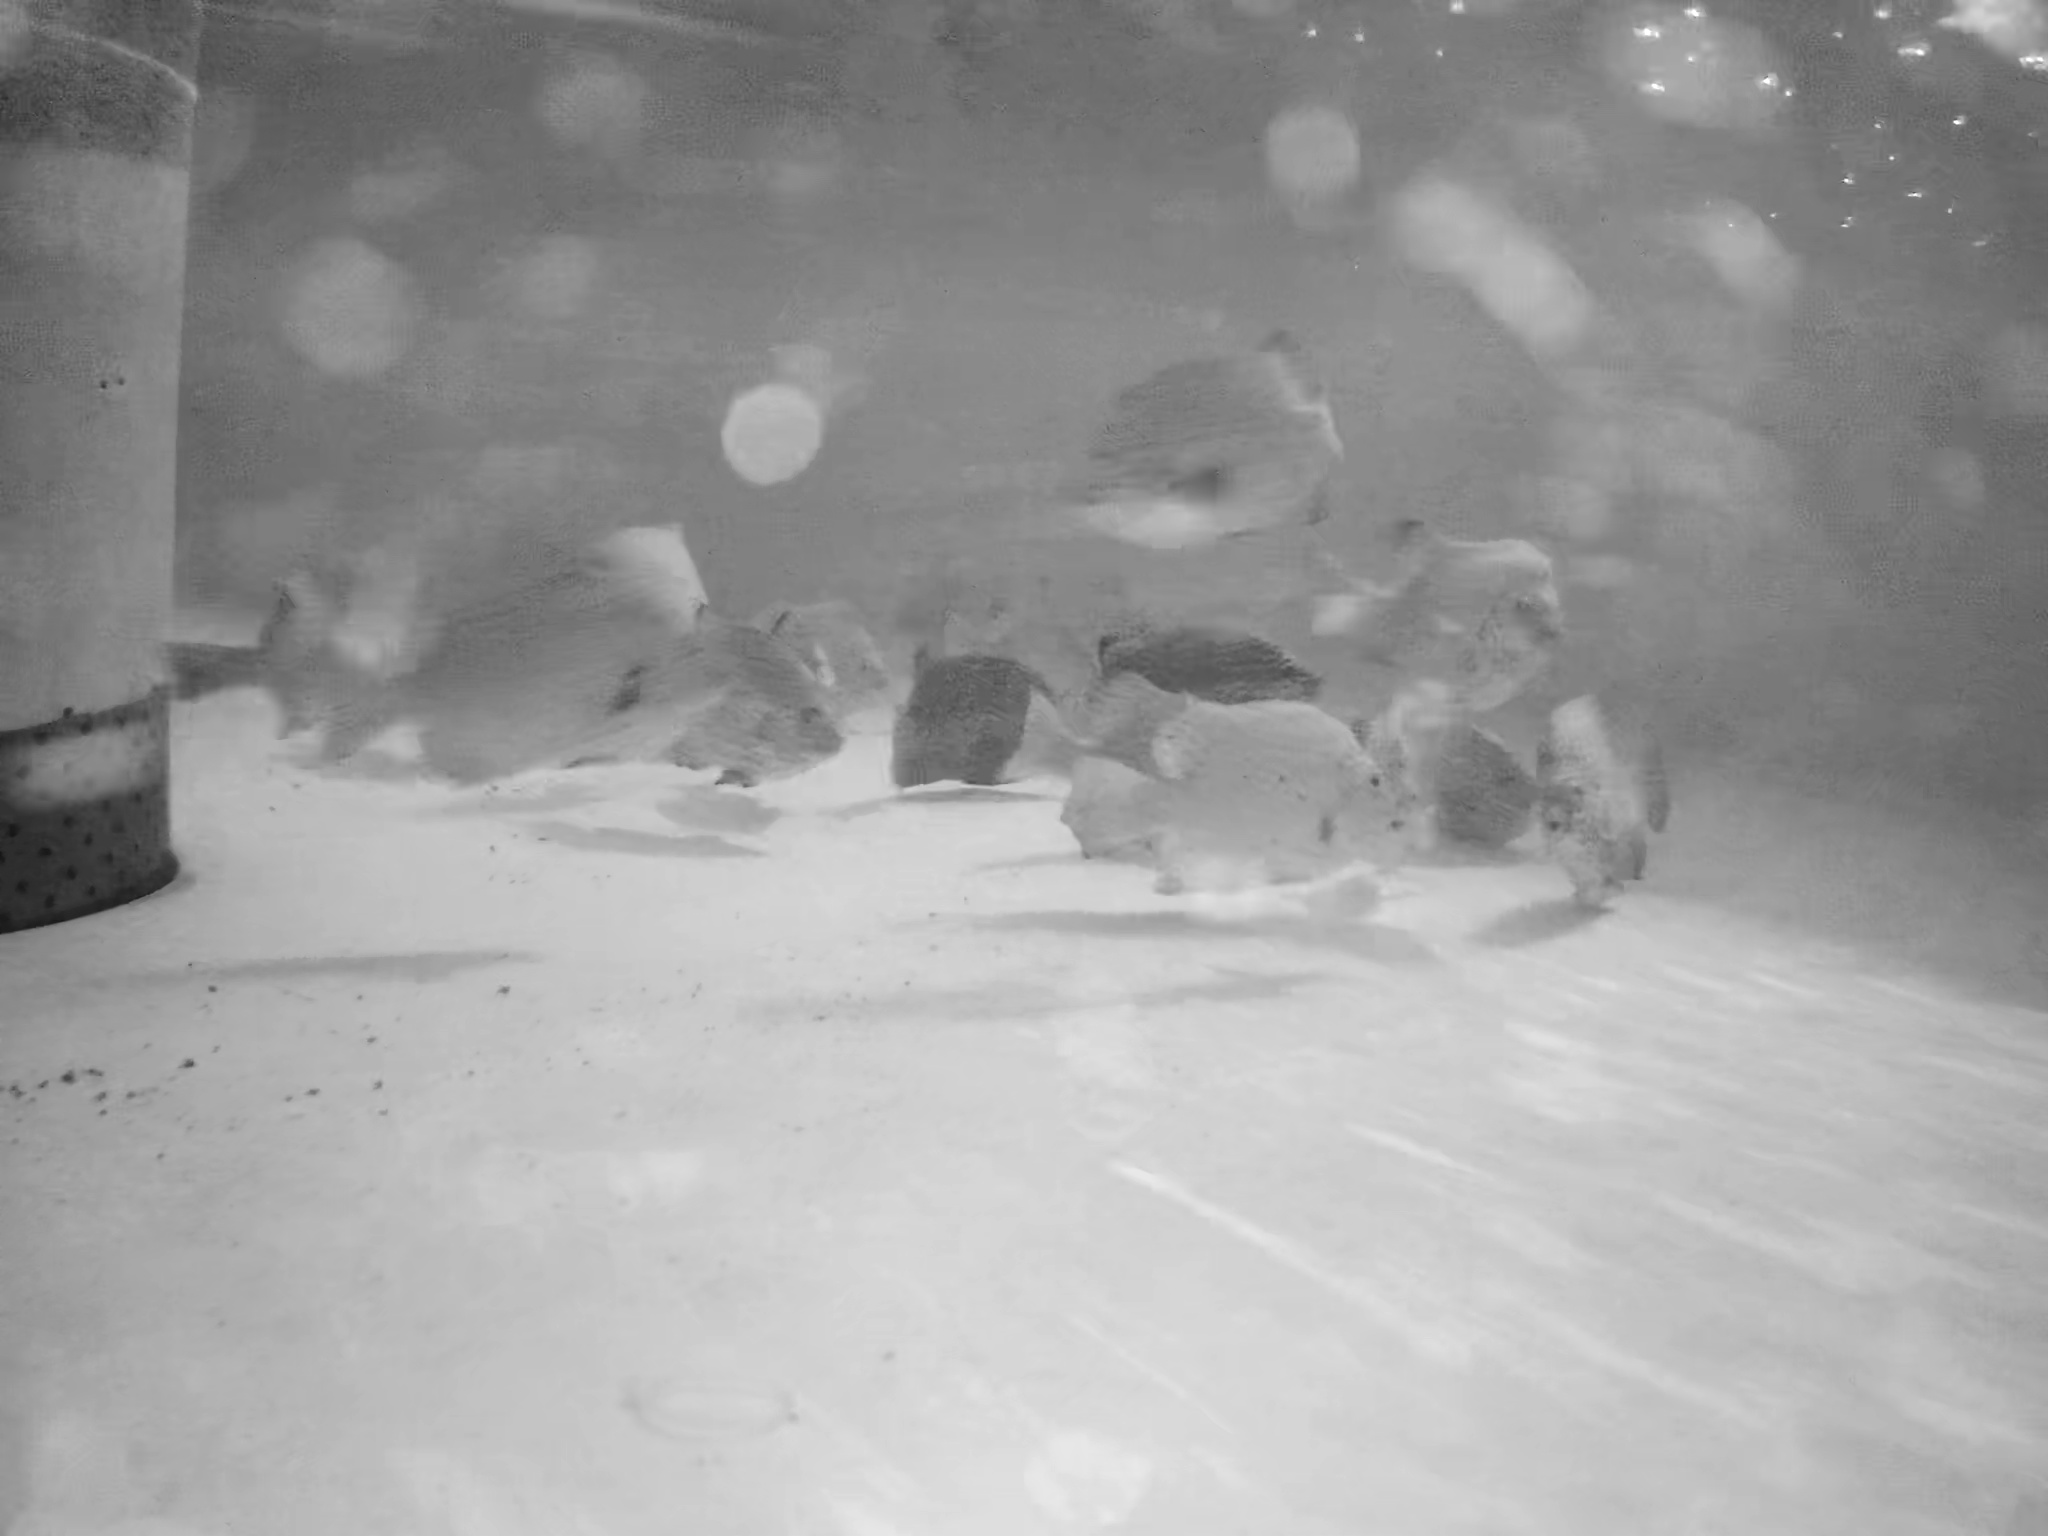fish: (252, 524, 743, 802), (1066, 303, 1380, 574), (1063, 670, 1380, 925), (1350, 482, 1577, 741), (1401, 720, 1625, 915), (760, 578, 1006, 710), (895, 644, 1072, 813), (698, 624, 856, 813), (1522, 686, 1688, 849), (1100, 636, 1330, 750)
